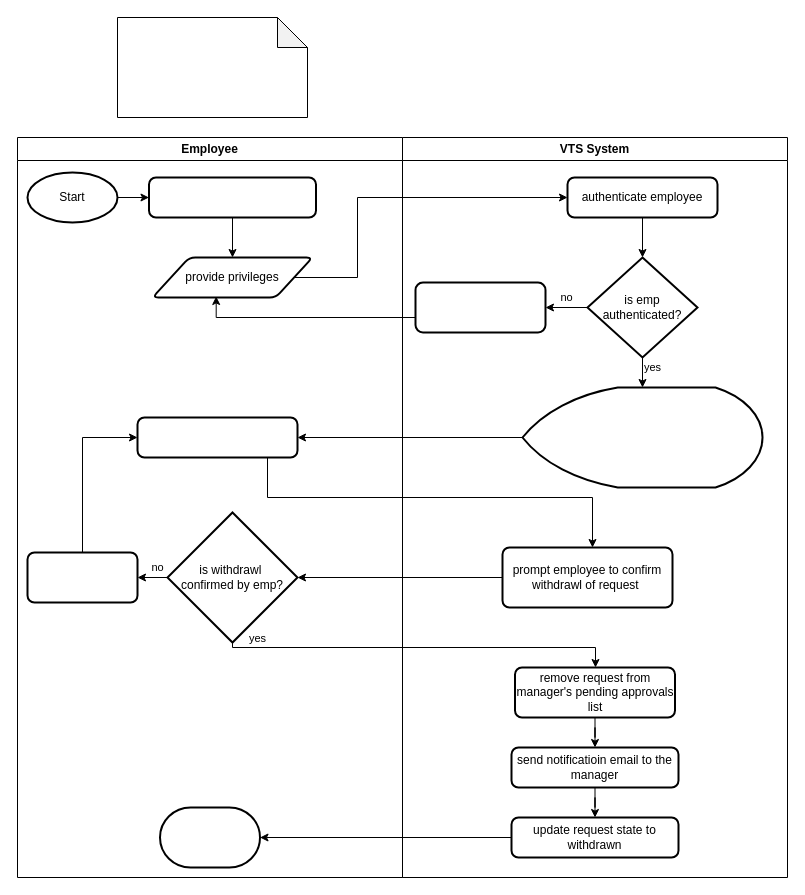
The diagram is 805 pixels wide and 895 high, and some of its shapes have lost their labels. Here are the shapes that lost their labels. From the top down, the centre of each, then its label:
At (x=212, y=67): "emp = employee request = vacation time request".
At (x=480, y=307): "redirect to VTS log in page".
At (x=217, y=437): "select a pending request".
At (x=642, y=437): "display VTS home page (status of active requests and outstanding balances)".
At (x=82, y=577): "return to VTS home page".
At (x=209, y=837): "End".
